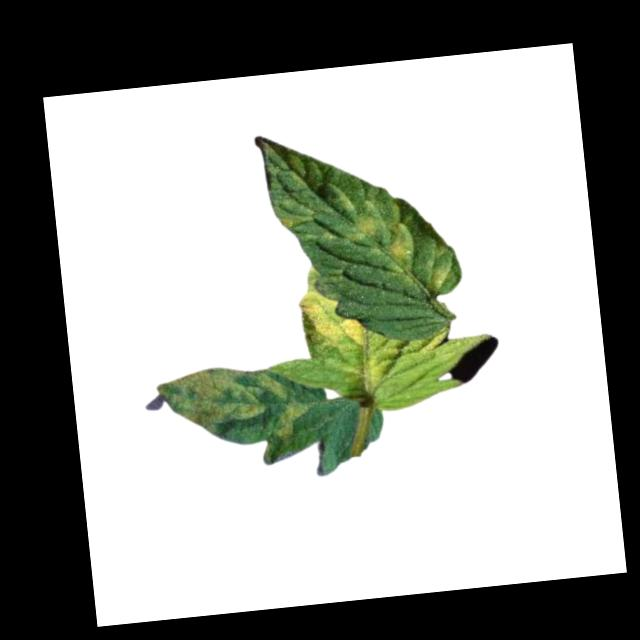Leaf_Mold: (154, 357, 311, 474), (293, 258, 368, 358), (346, 199, 421, 276), (420, 240, 459, 294)
